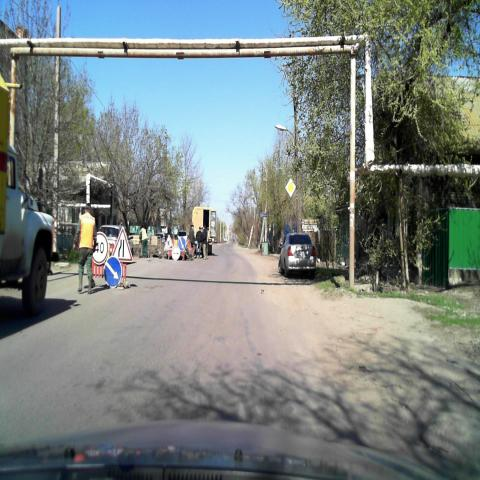1_20_3: (111, 229, 133, 263)
4_2_1: (178, 236, 186, 252)
